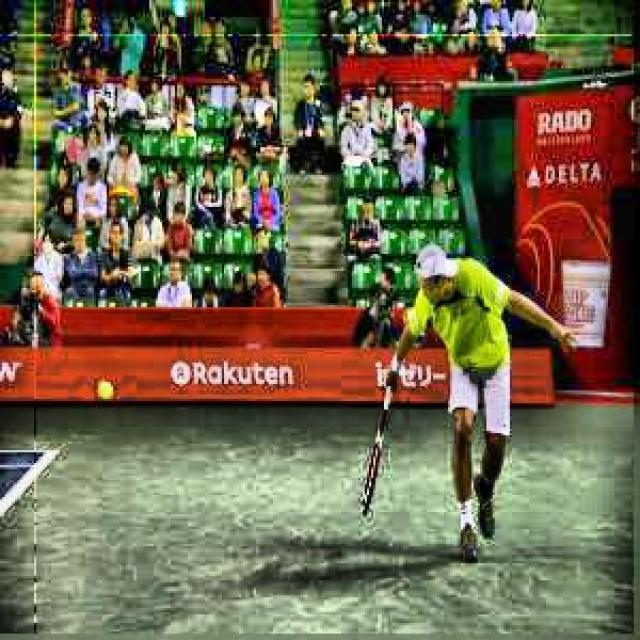tennis-ball: (98, 386, 113, 405)
